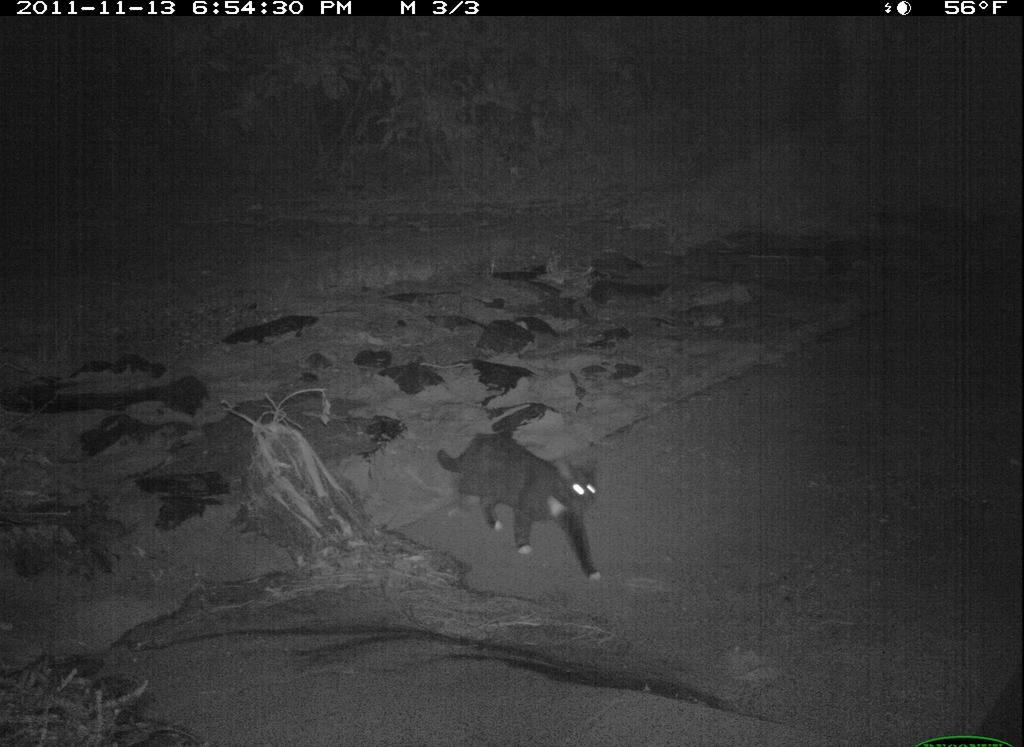cat: (417, 425, 616, 589)
